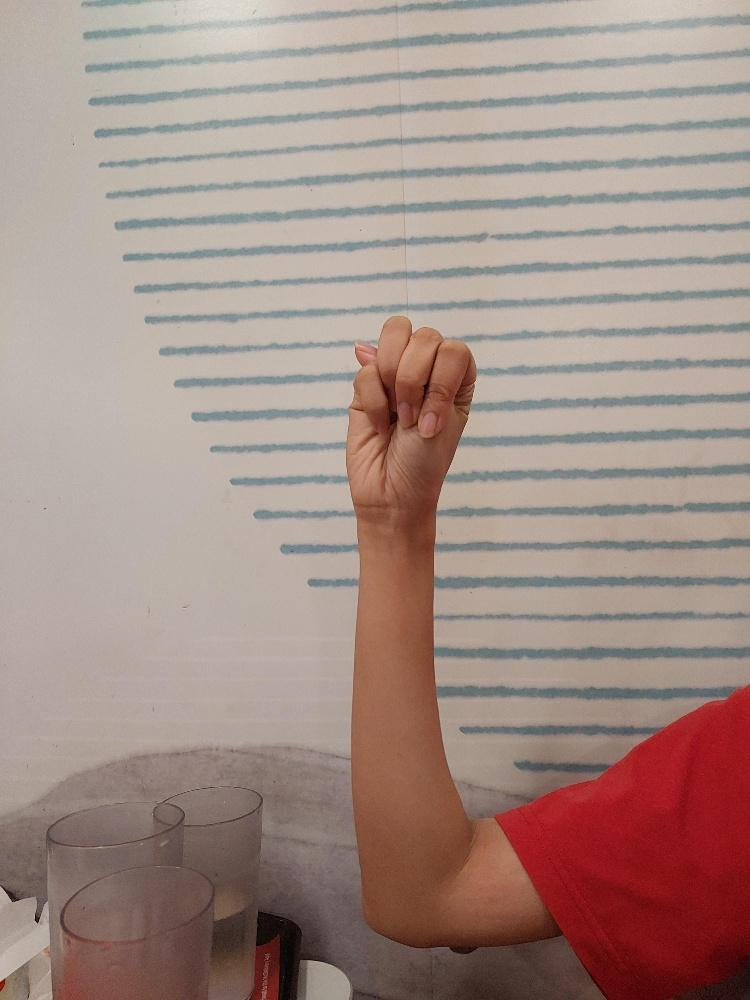m: (342, 313, 477, 529)
